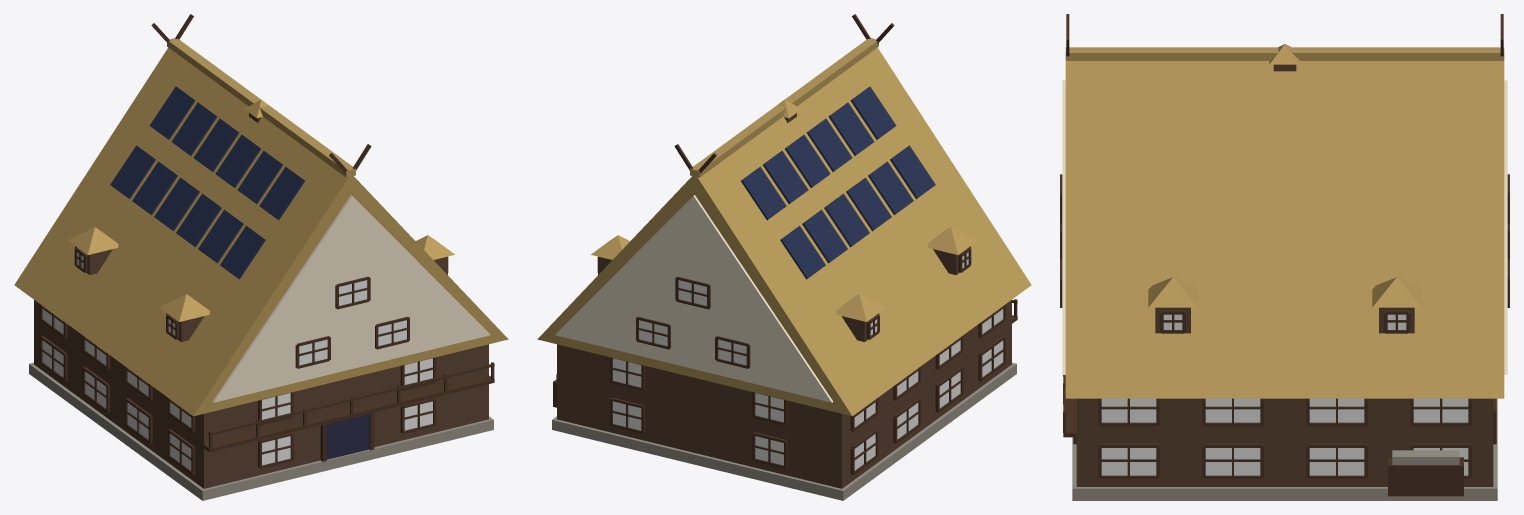
The model's file is house-2x2-3f-gassho-a-solar.glb.
3 renders of one model, left to right at view 1: azimuth 30°, elevation 25°; view 2: azimuth 150°, elevation 25°; view 3: azimuth 270°, elevation 25°, orthographic. The views are drawn at different scales.
Parts seen in each view (by area): view 1: house-2x2-3f-gassho-a-solar; view 2: house-2x2-3f-gassho-a-solar; view 3: house-2x2-3f-gassho-a-solar.
Boxes of the visible parts, box(x1,y1,x2,y2) form: house-2x2-3f-gassho-a-solar: box(14, 14, 508, 500); house-2x2-3f-gassho-a-solar: box(537, 14, 1031, 500); house-2x2-3f-gassho-a-solar: box(1060, 14, 1509, 500).
Size of the model in its own units: 2 by 1.92 by 2.01.
Materials: 1 (1 with a texture image).
